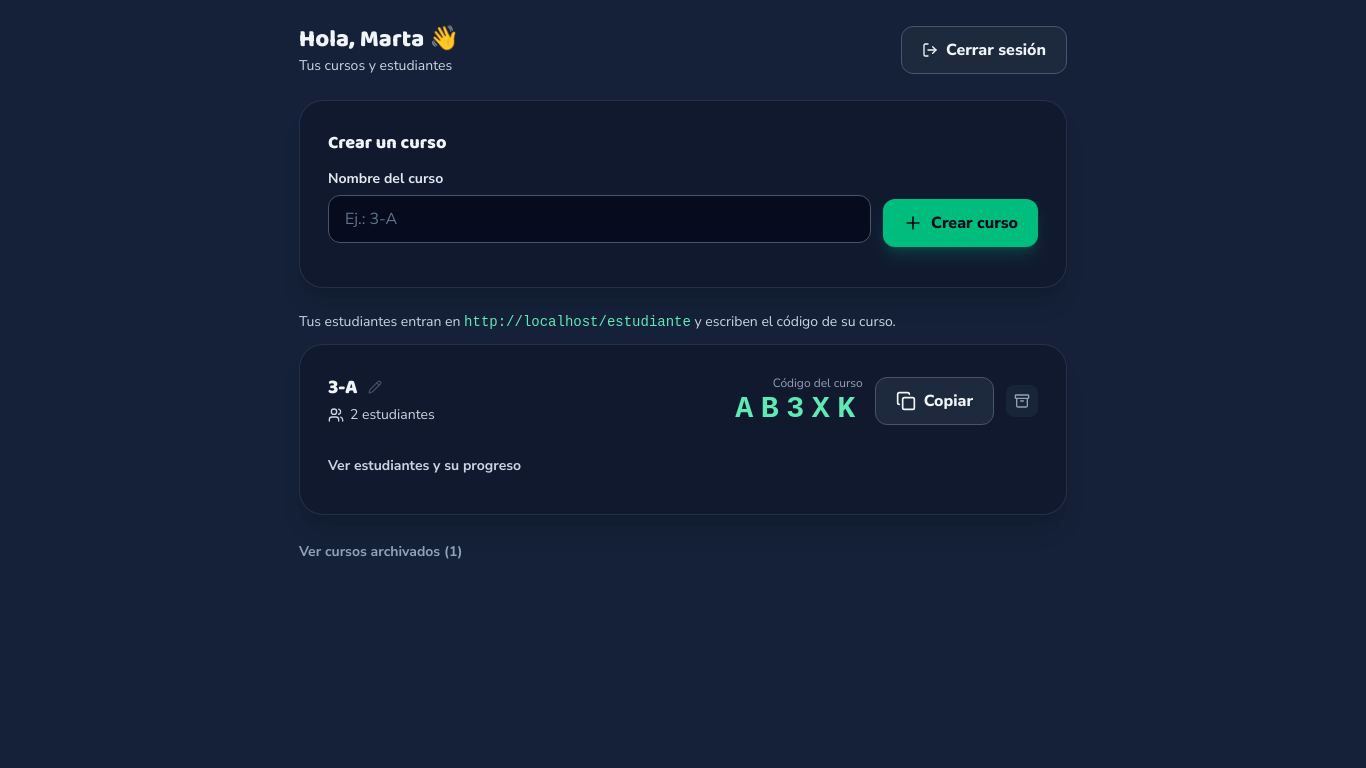
Test: TeacherPanel · detalle del estudiante › con la migración 0010/0011: las regiones cerradas se ven bloqueadas y dicen qué isla hay que completar
Expected: the text "Tus cursos y estudiantes" is shown, [299,56,459,76]
What coordinates should you click on to do the following:
click the heading "Ver estudiantes y su progreso"
I would click on:
 (425, 465)
Its box is [328,456,521,475].
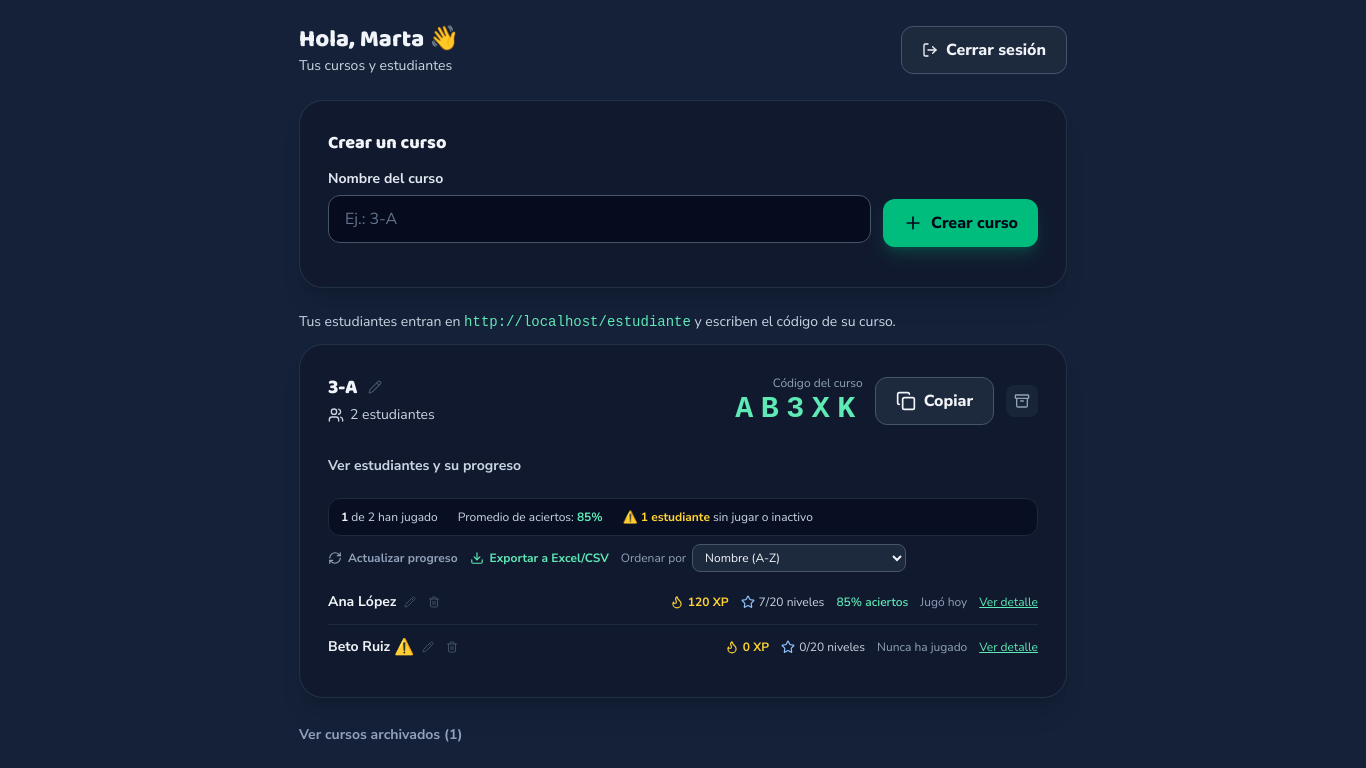
What coordinates should you click on to do the following:
click the text "120 XP"
I would click on:
 (699, 602)
Its box is [670,594,729,610].
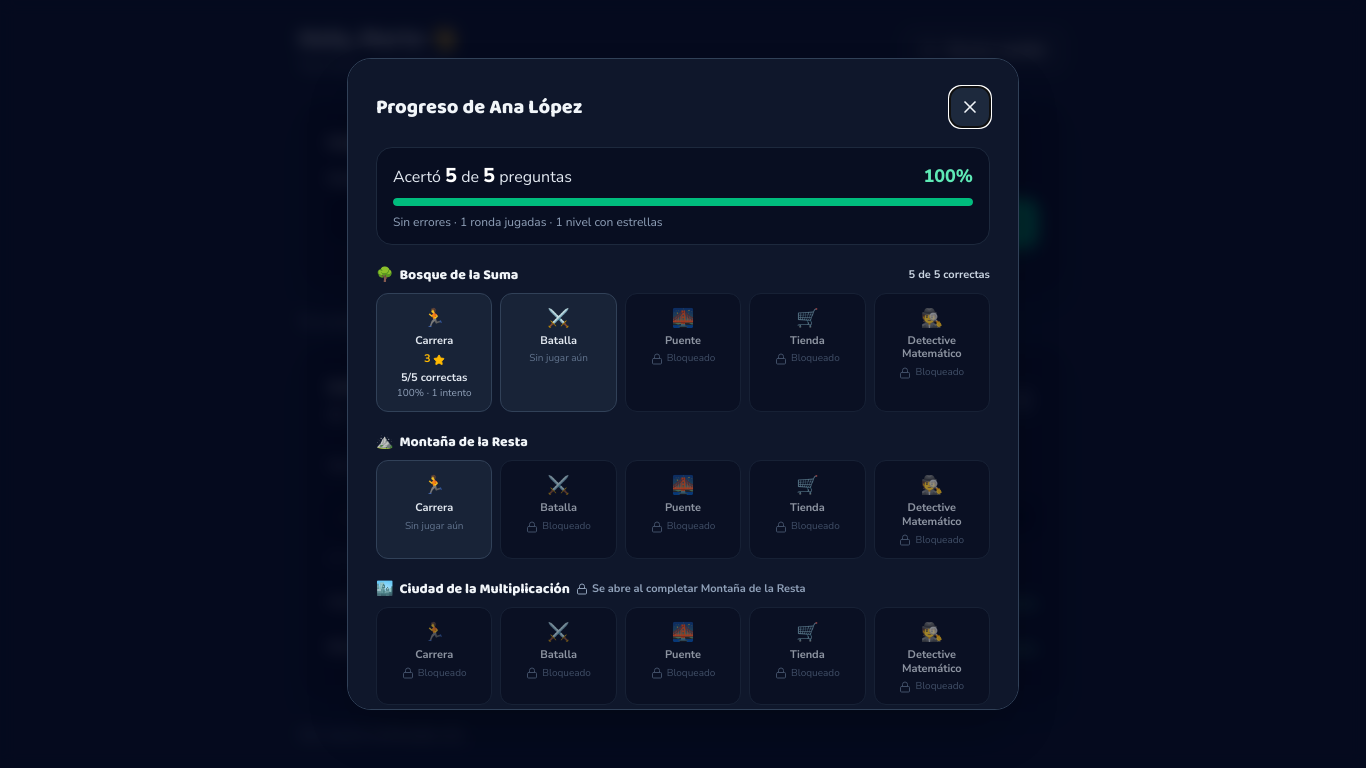
Result: the text "Se abre al completar Montaña de la Resta" is shown at [576,581,806,597]
Result: the text "Bloqueado" is shown 17 times
